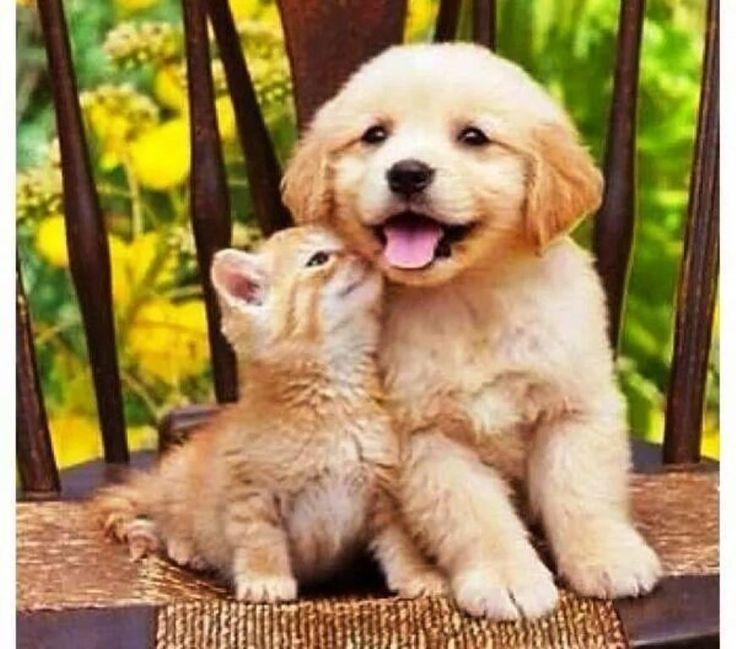kedo: (167, 215, 430, 595)
